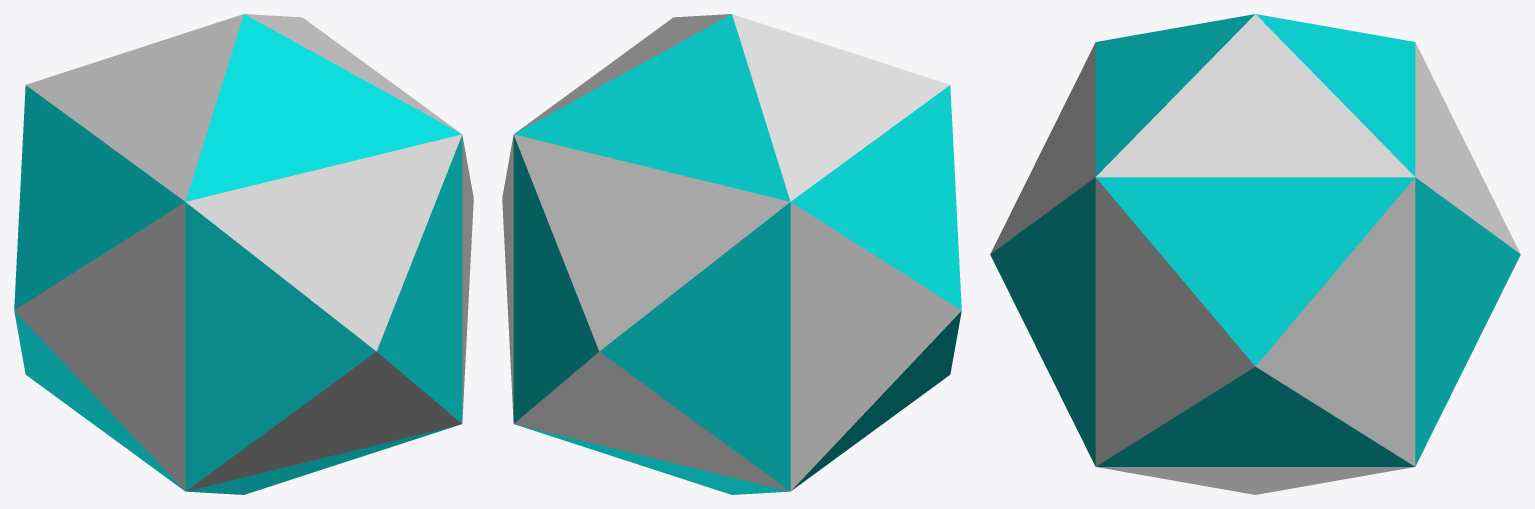
The model's file is Glenz.fbx.
3 views of the same model, side by side, from view 1: azimuth 30°, elevation 25°; view 2: azimuth 150°, elevation 25°; view 3: azimuth 270°, elevation 25° (orthographic).
Visible parts, largest first — view 1: Inside; view 2: Inside; view 3: Inside.
Boxes of the visible parts, left/top/right/bottom form: Inside: left=14, top=14, right=473, bottom=494; Inside: left=502, top=14, right=961, bottom=494; Inside: left=990, top=14, right=1520, bottom=494.
Size of the model in its own units: 1.66 by 1.66 by 1.66.
